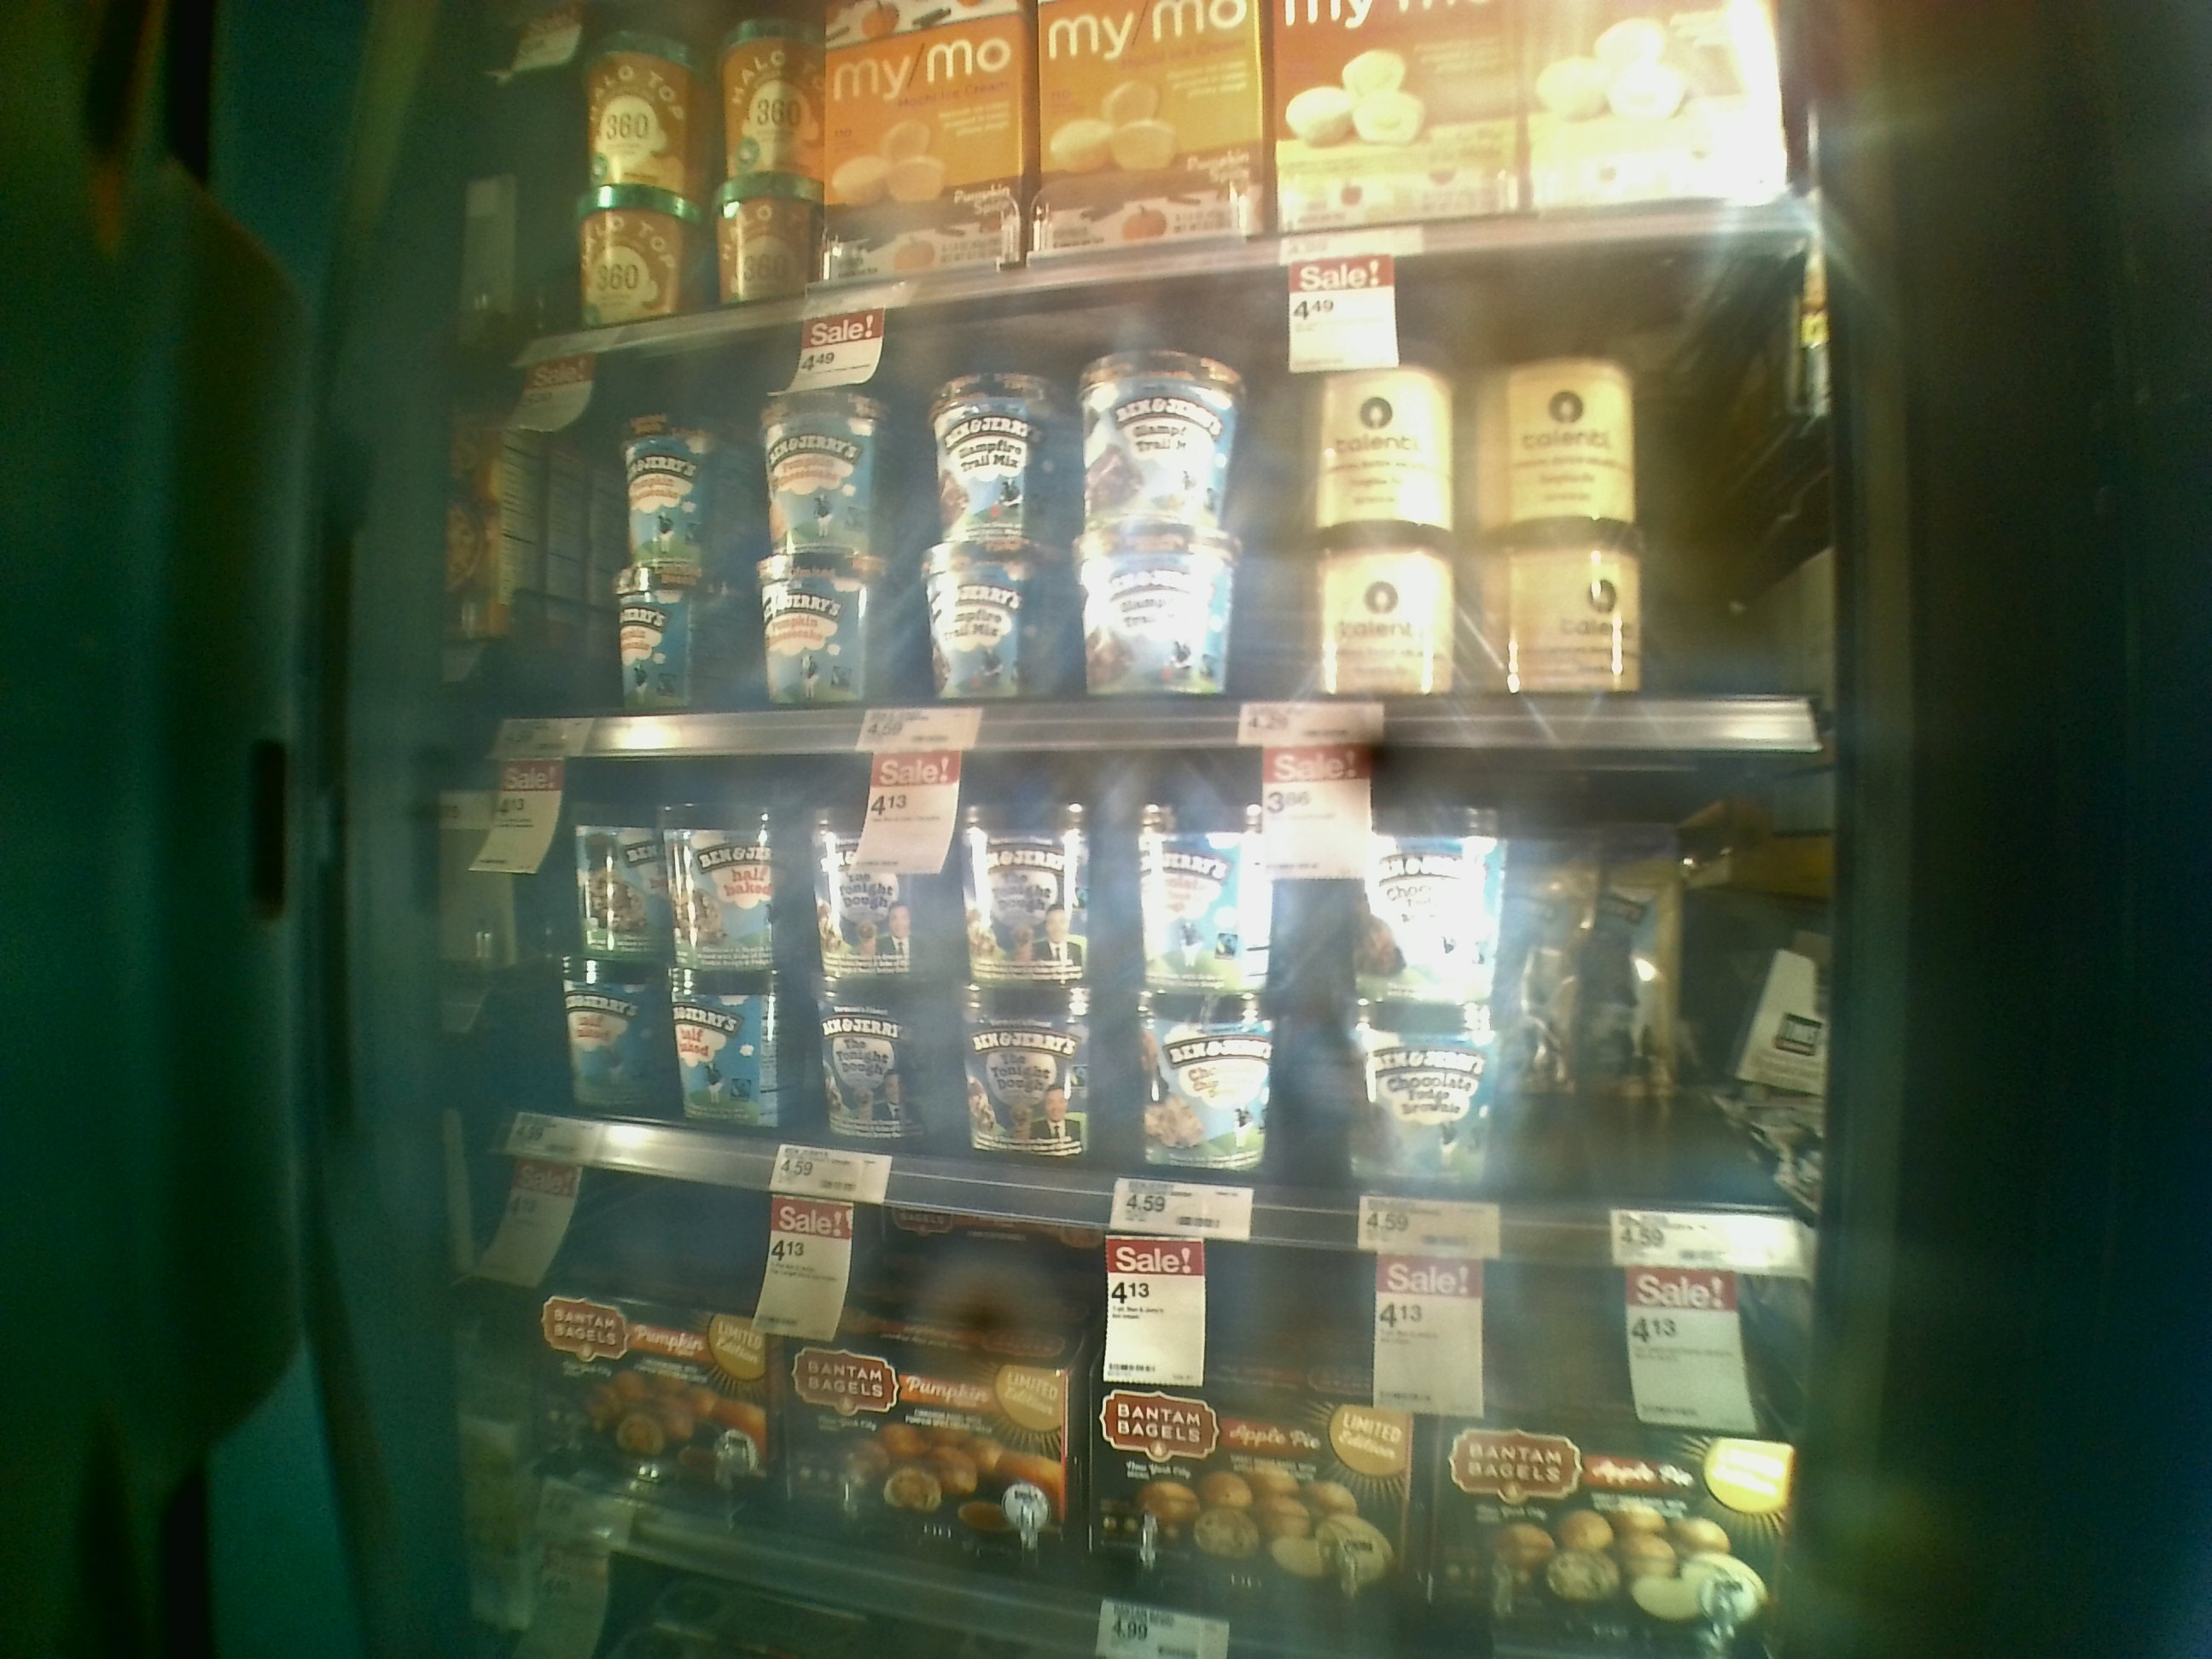shelf: (439, 753, 1820, 1286), (441, 352, 1832, 763)
